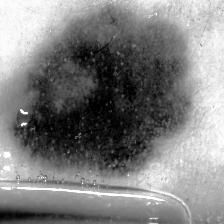Benign Marking or Mole: (2, 13, 209, 174)
